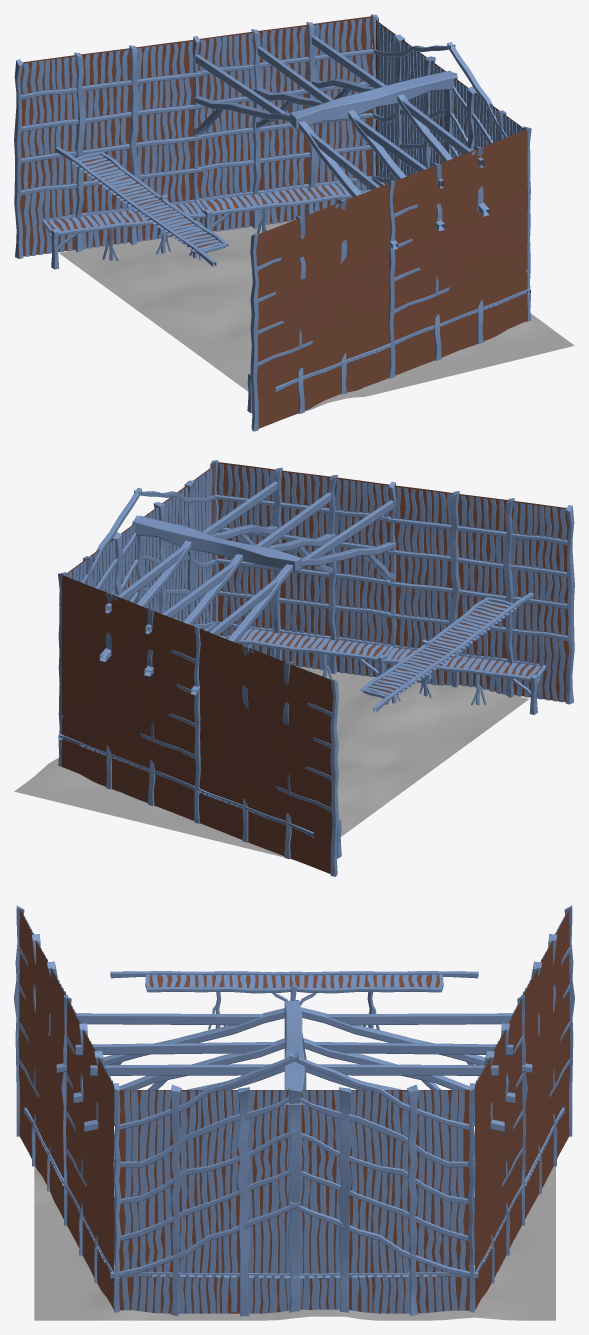
File: background_arena.fbx
3 renders of one model, top to bottom at view 1: azimuth 30°, elevation 25°; view 2: azimuth 150°, elevation 25°; view 3: azimuth 270°, elevation 25°, orthographic. The views are drawn at different scales.
Parts seen in each view (by area): view 1: left_side_wall_B, right_side_wall_A, right_side_wall_B, left_side_wall_A, ground, roof, left_front_wall, right_front_wall, left_side_floor_A, left_side_floor_B, floating_right_floor, floating_left_floor (+2 smaller); view 2: right_side_wall_B, left_side_wall_A, left_side_wall_B, right_side_wall_A, ground, roof, right_front_wall, left_front_wall, right_side_floor_A, right_side_floor_B, floating_right_floor, floating_left_floor (+2 smaller); view 3: left_front_wall, right_front_wall, roof, ground, left_side_wall_A, right_side_wall_A, left_side_wall_B, right_side_wall_B, floating_right_floor, floating_left_floor, left_front_floor, right_front_floor.
Boxes of the visible parts, bbox=[...] form: left_side_wall_B: bbox=[14, 39, 201, 258]; right_side_wall_A: bbox=[388, 126, 531, 378]; right_side_wall_B: bbox=[250, 183, 390, 431]; left_side_wall_A: bbox=[192, 14, 378, 231]; ground: bbox=[59, 220, 574, 411]; roof: bbox=[193, 36, 489, 275]; left_front_wall: bbox=[373, 20, 457, 186]; right_front_wall: bbox=[447, 42, 523, 158]; left_side_floor_A: bbox=[196, 176, 372, 233]; left_side_floor_B: bbox=[43, 199, 205, 269]; floating_right_floor: bbox=[130, 194, 228, 267]; floating_left_floor: bbox=[55, 147, 160, 212]; right_side_wall_B: bbox=[387, 485, 574, 704]; left_side_wall_A: bbox=[58, 572, 201, 823]; left_side_wall_B: bbox=[198, 628, 338, 876]; right_side_wall_A: bbox=[210, 460, 396, 677]; ground: bbox=[14, 666, 528, 859]; roof: bbox=[99, 481, 396, 720]; right_front_wall: bbox=[134, 466, 215, 631]; left_front_wall: bbox=[66, 487, 144, 603]; right_side_floor_A: bbox=[217, 621, 393, 679]; right_side_floor_B: bbox=[383, 645, 545, 714]; floating_right_floor: bbox=[422, 592, 533, 680]; floating_left_floor: bbox=[360, 644, 455, 712]; left_front_wall: bbox=[287, 1052, 470, 1316]; right_front_wall: bbox=[118, 1052, 298, 1316]; roof: bbox=[56, 1000, 532, 1151]; ground: bbox=[34, 1162, 555, 1320]; left_side_wall_A: bbox=[467, 994, 527, 1312]; right_side_wall_A: bbox=[61, 994, 121, 1312]; left_side_wall_B: bbox=[521, 905, 574, 1218]; right_side_wall_B: bbox=[14, 905, 67, 1218]; floating_right_floor: bbox=[110, 971, 301, 1029]; floating_left_floor: bbox=[294, 971, 478, 1029]; left_front_floor: bbox=[287, 1271, 478, 1278]; right_front_floor: bbox=[110, 1271, 290, 1278].
Bounding box in the file's own units: 5122 × 3353 × 6436.
